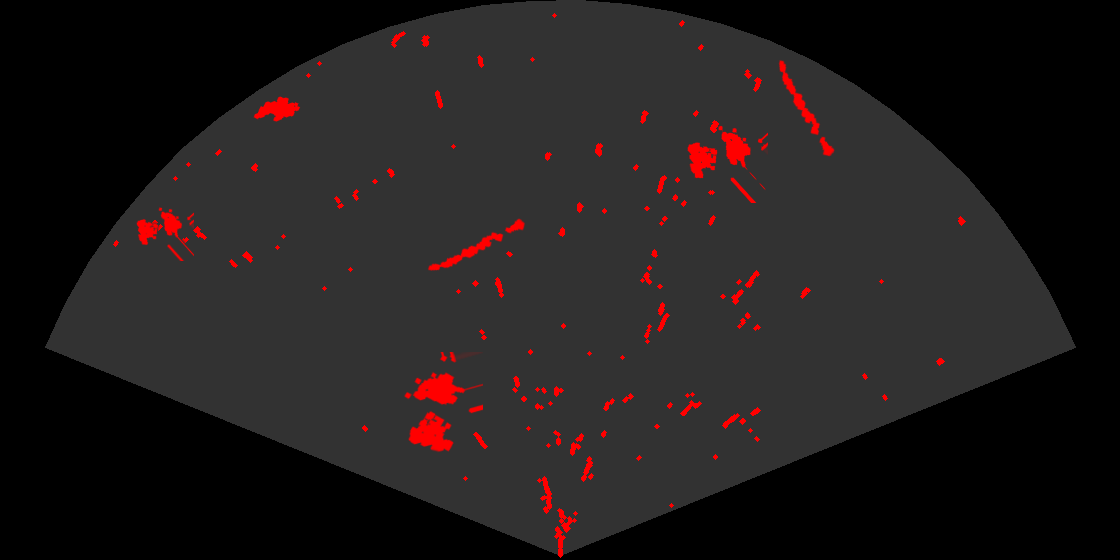AUV: (252, 95, 302, 123)
cage: (403, 352, 483, 454), (686, 124, 768, 203), (135, 206, 194, 261)
chain: (777, 58, 836, 158), (426, 217, 527, 272)
